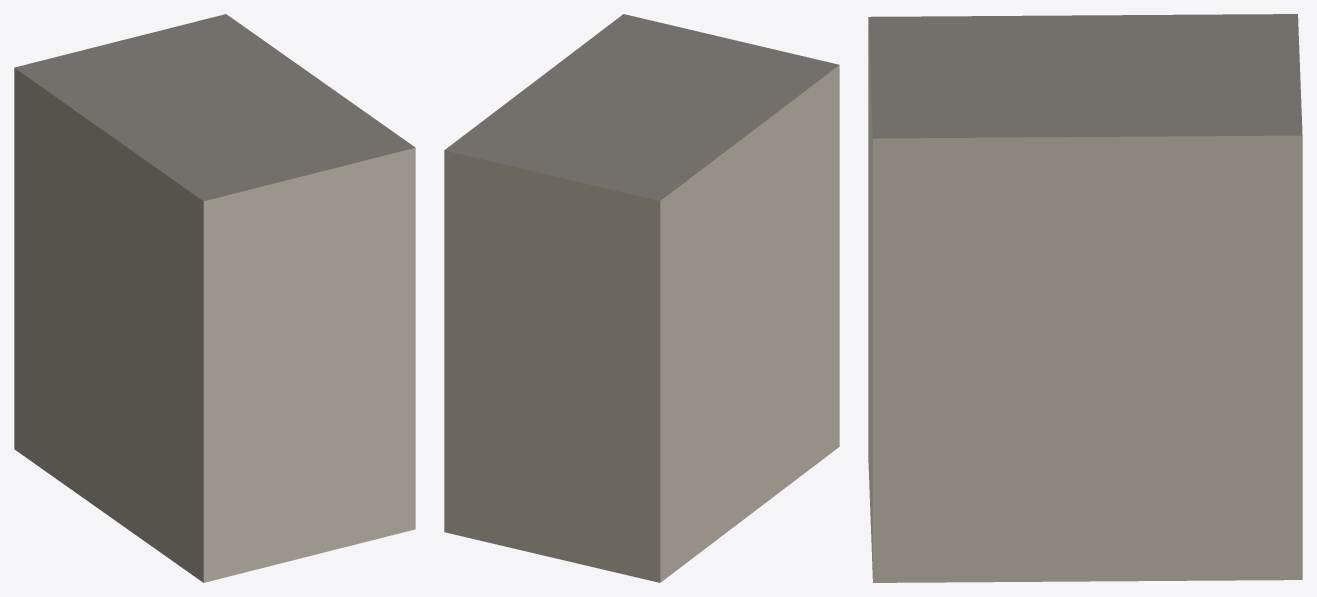
3 renders of one model, left to right at view 1: azimuth 30°, elevation 25°; view 2: azimuth 150°, elevation 25°; view 3: azimuth 270°, elevation 25°, orthographic. The views are drawn at different scales.
Parts seen in each view (by area): view 1: HP-w858824355; view 2: HP-w858824355; view 3: HP-w858824355.
Part boxes in pixels (x1,y1,x2,y2): HP-w858824355: (14, 14, 415, 582); HP-w858824355: (444, 14, 839, 582); HP-w858824355: (868, 14, 1302, 582).
Size of the model in its own units: 10.81 by 18 by 15.93.
